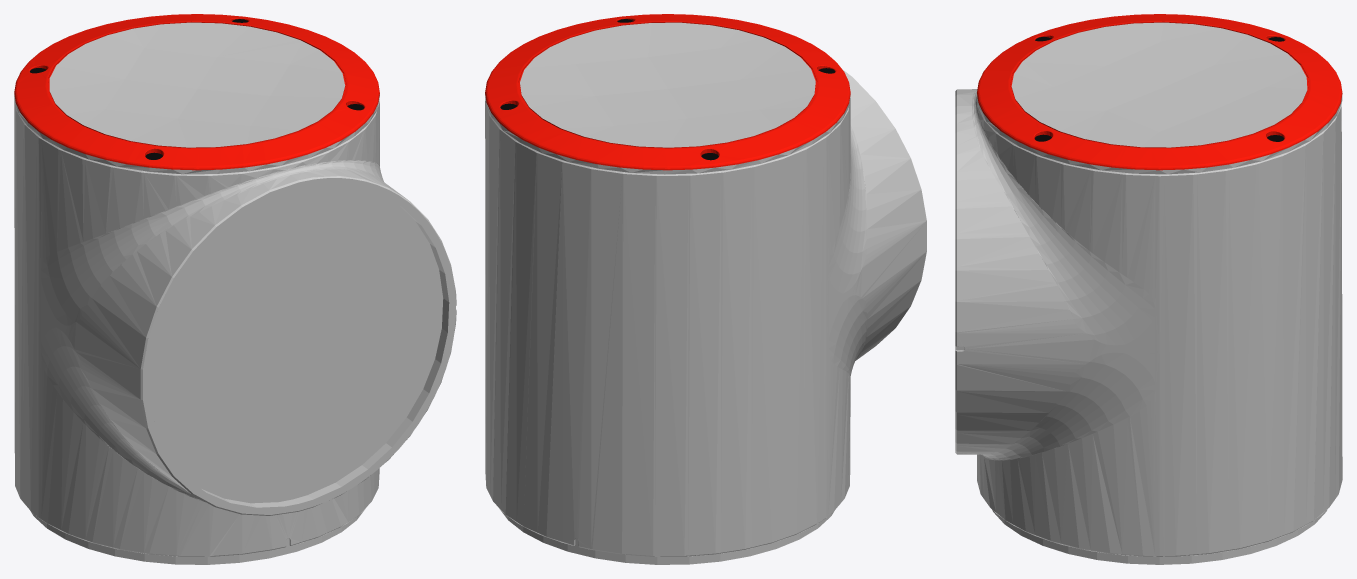
The model's file is shouler_link.obj.
3 views of the same model, side by side, from view 1: azimuth 30°, elevation 25°; view 2: azimuth 150°, elevation 25°; view 3: azimuth 270°, elevation 25° (orthographic).
Parts seen in each view (by area): view 1: shoulder_link; view 2: shoulder_link; view 3: shoulder_link.
Boxes of the visible parts, x1,y1,x2,y2 form: shoulder_link: [14, 14, 456, 564]; shoulder_link: [485, 14, 926, 564]; shoulder_link: [955, 14, 1342, 564].
Size of the model in its own units: 0.116 by 0.1434 by 0.1228.
